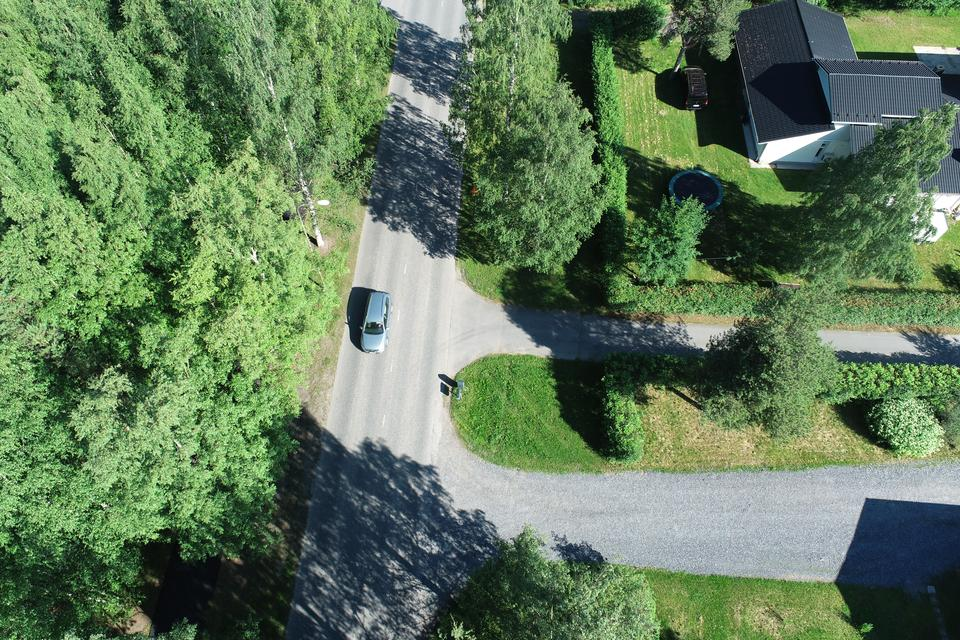intersection: (270, 408, 525, 625), (304, 246, 508, 388)
